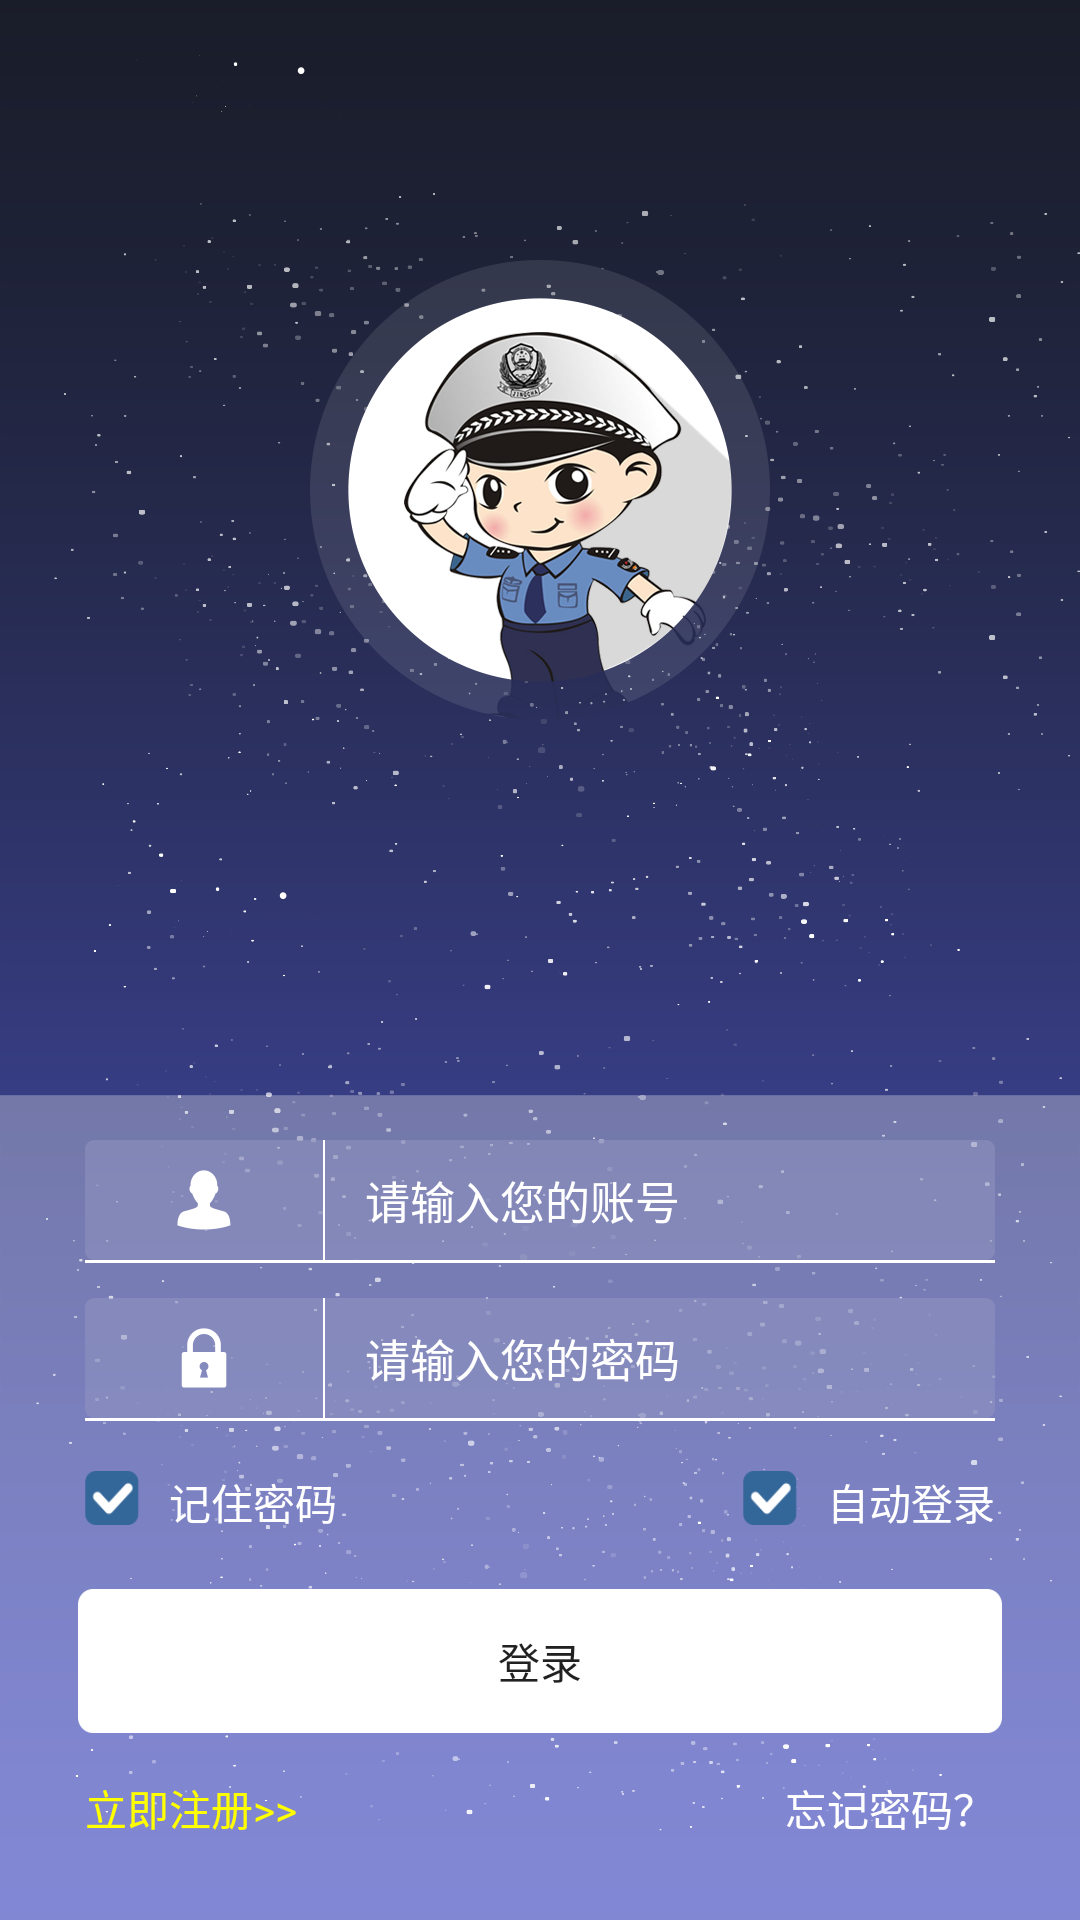

Icon bounding boxes for this 1080 × 1920 phone screenshot, format box(x1, y1, x2, y2):
password: box(181, 1328, 227, 1388)
user: box(177, 1170, 231, 1230)
